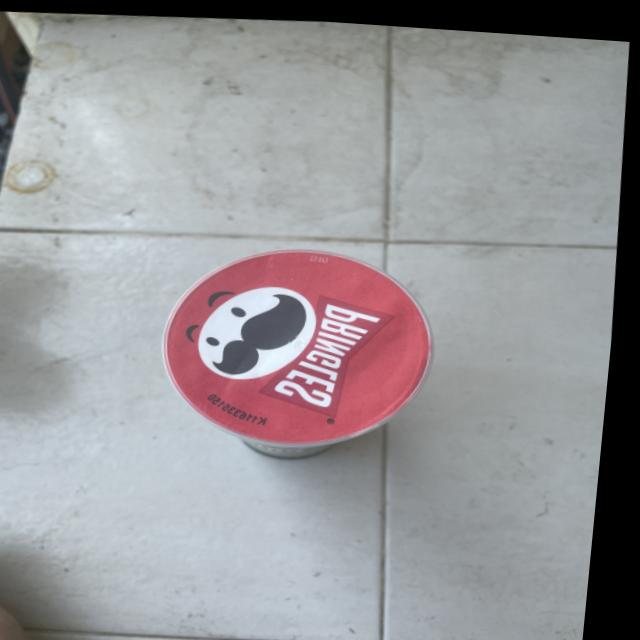a pringles: (145, 219, 456, 467)
